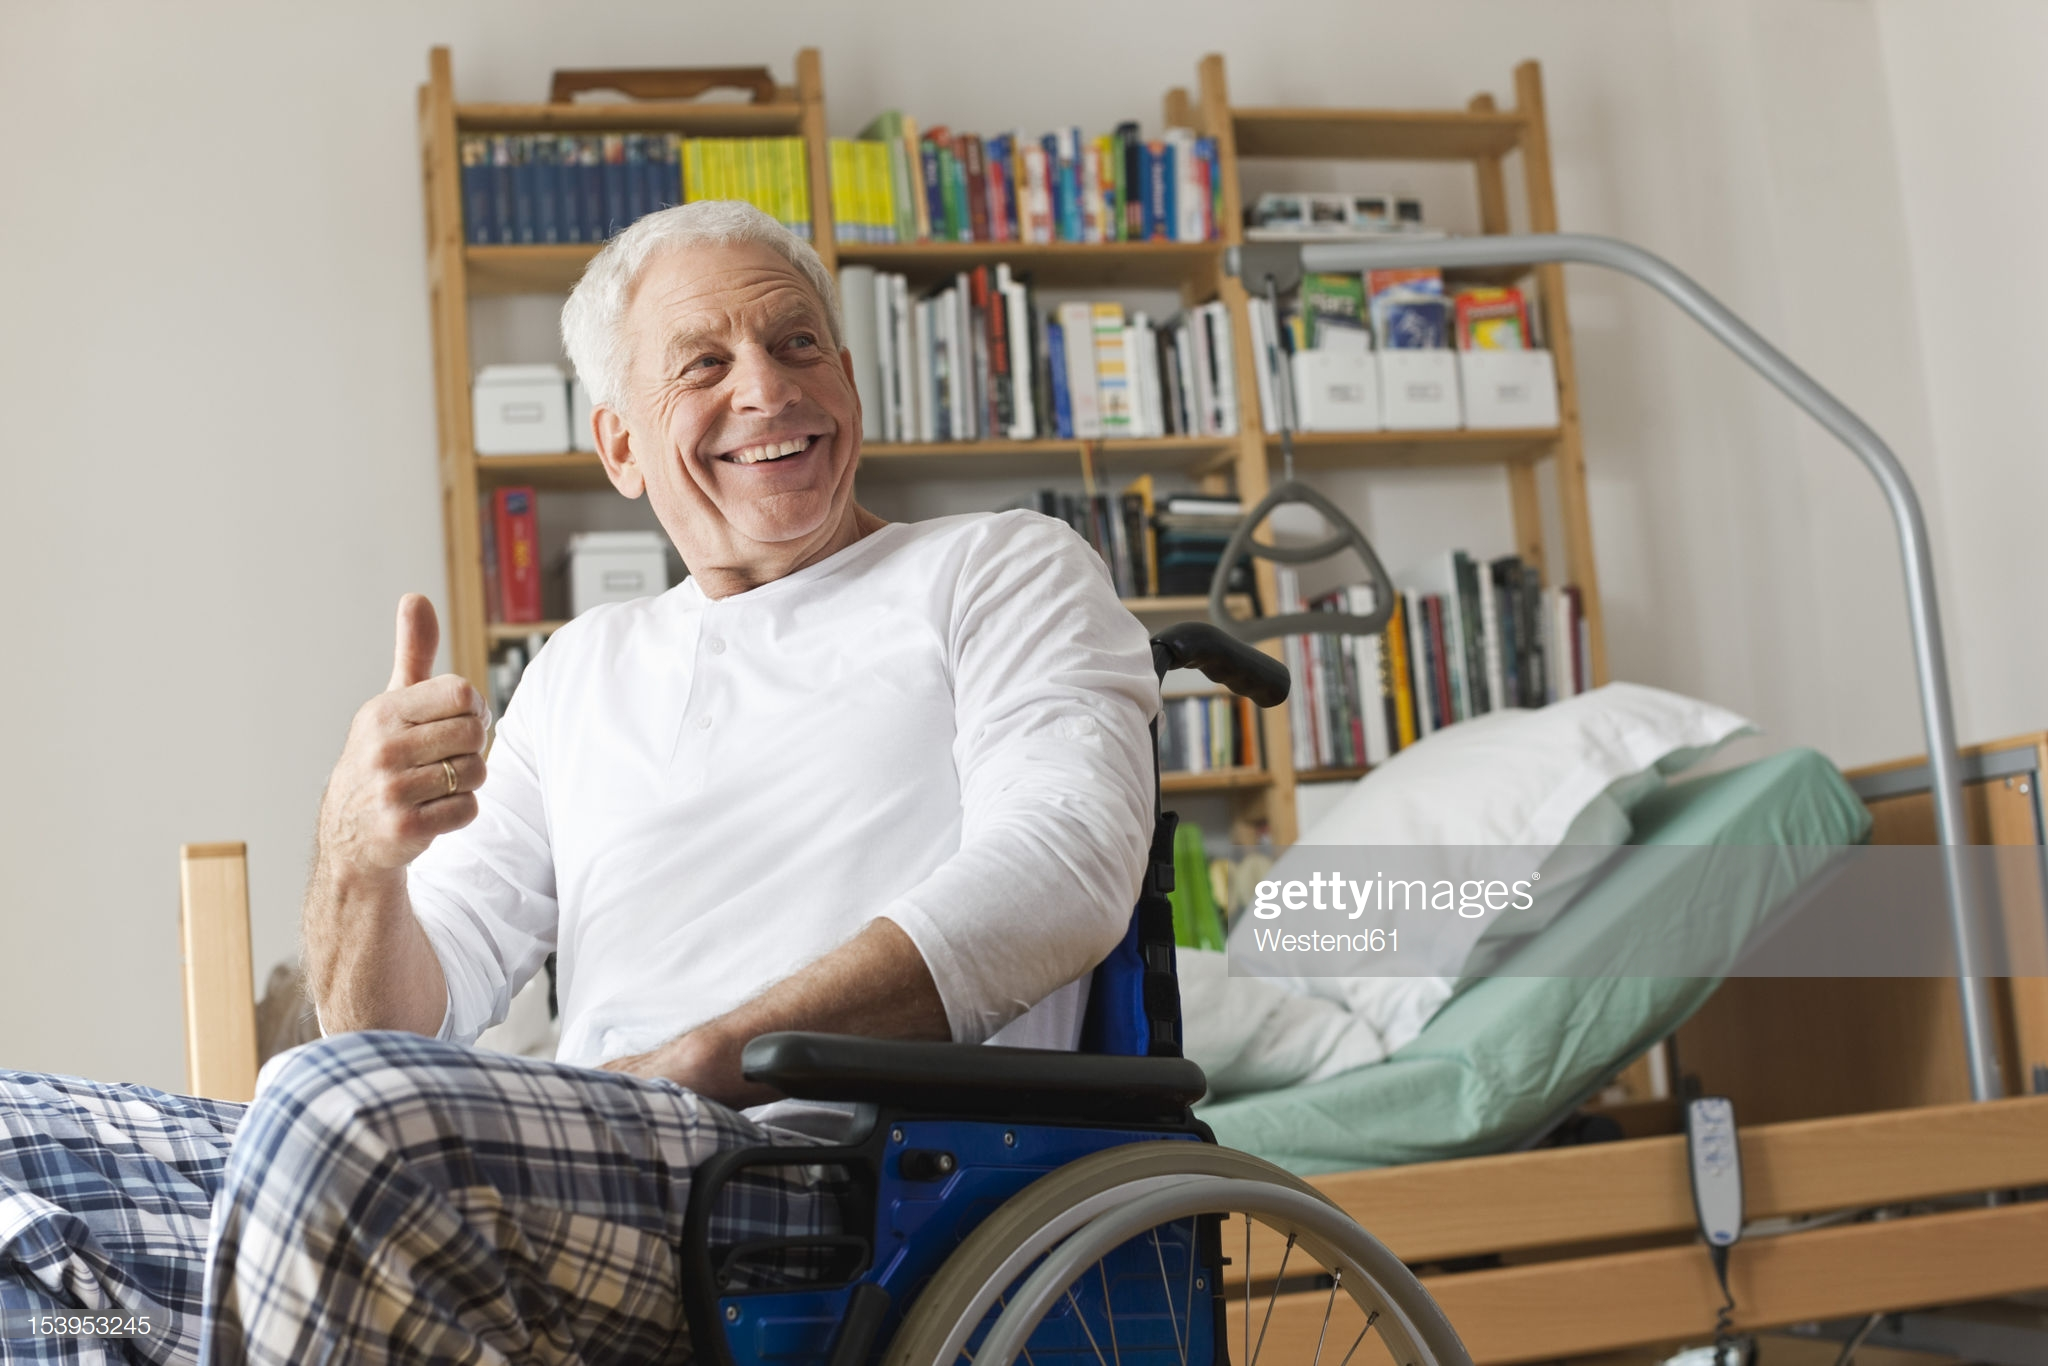thumbsup: (358, 592, 491, 840)
